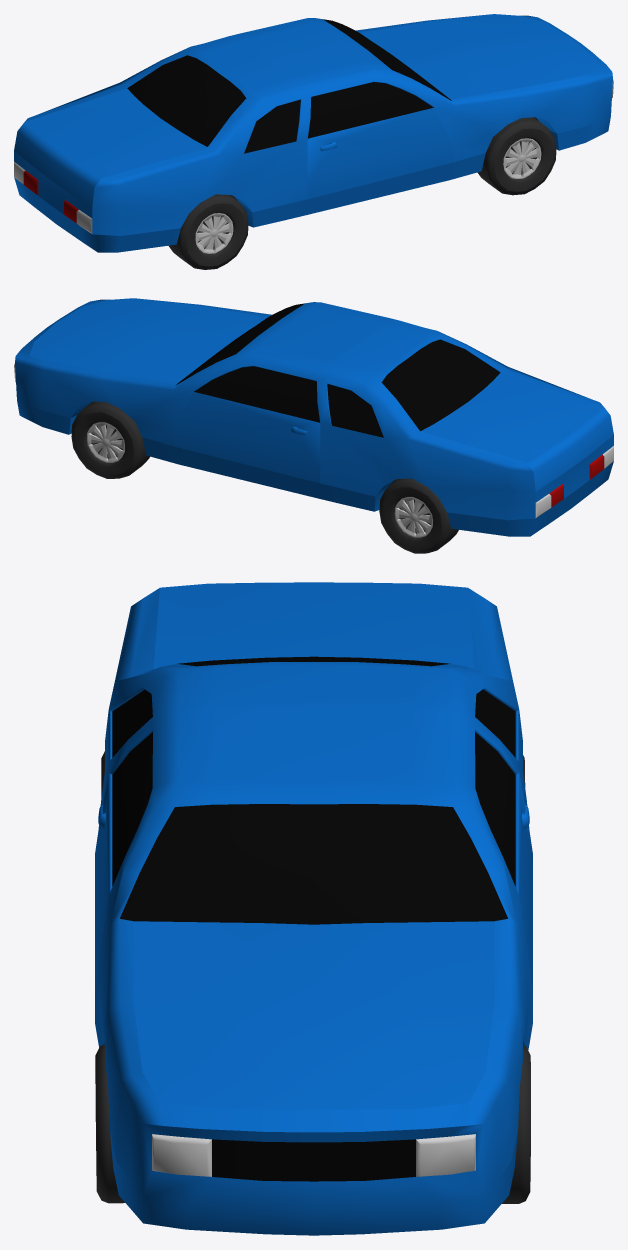
The model's file is Car.fbx.
The picture shows the model from 3 angles, top to bottom: view 1: azimuth 30°, elevation 25°; view 2: azimuth 150°, elevation 25°; view 3: azimuth 270°, elevation 25°; orthographic projection. The views are drawn at different scales.
Parts seen in each view (by area): view 1: Body, Front_Right_Tire, Back_Right_Tire; view 2: Body, Front_Left_Tire, Back_Left_Tire; view 3: Body, Front_Right_Tire, Front_Left_Tire.
Boxes of the visible parts, x1=… form: Body: x1=14, y1=14, x2=613, y2=252; Front_Right_Tire: x1=477, y1=117, x2=556, y2=195; Back_Right_Tire: x1=168, y1=194, x2=248, y2=269; Body: x1=14, y1=298, x2=613, y2=536; Front_Left_Tire: x1=71, y1=401, x2=149, y2=478; Back_Left_Tire: x1=379, y1=478, x2=458, y2=553; Body: x1=95, y1=582, x2=532, y2=1235; Front_Right_Tire: x1=95, y1=1044, x2=124, y2=1203; Front_Left_Tire: x1=502, y1=1045, x2=530, y2=1203.
Size of the model in its own units: 4.77 by 1.28 by 1.7.
